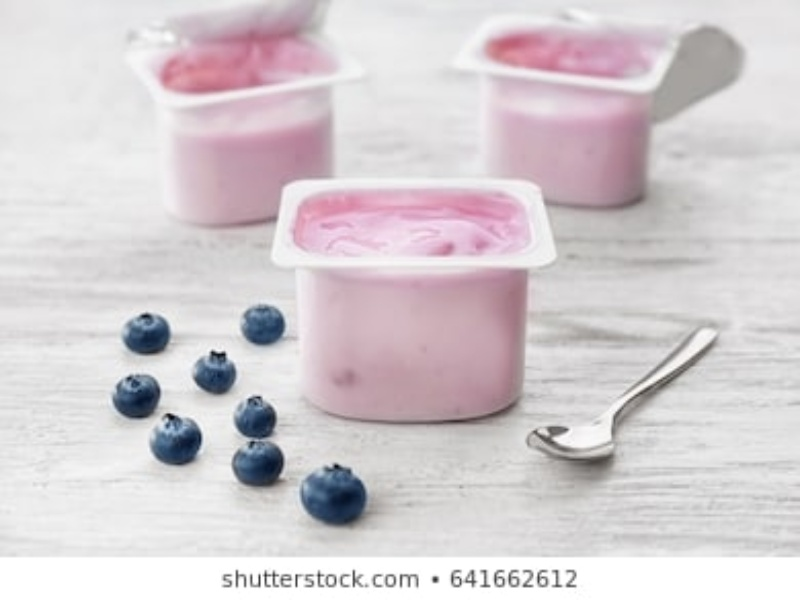yogurt-cup: (274, 176, 554, 424), (452, 8, 687, 212), (125, 33, 357, 227)
